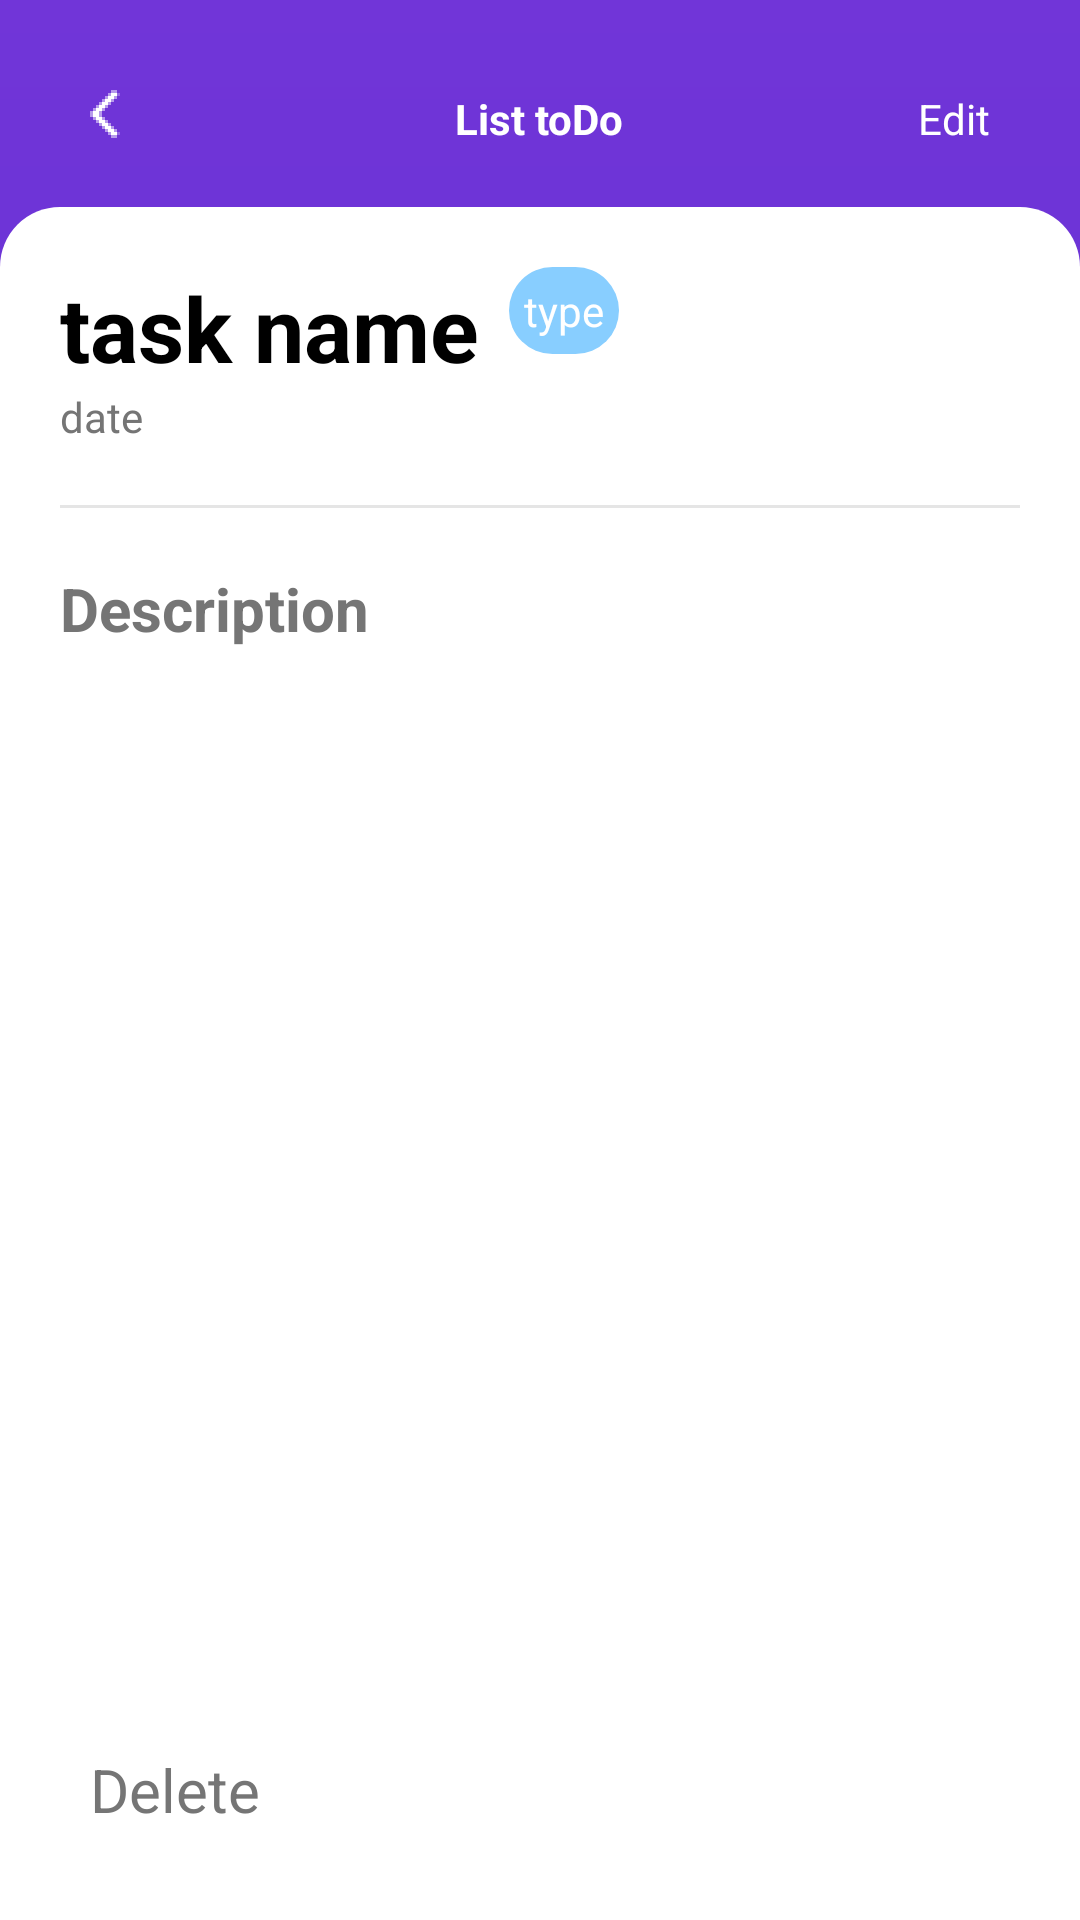

Named icons in this screenshot (1080×1920) and their bounding boxes, (x1, y1, x2, y2):
back: (90, 90, 120, 138)
